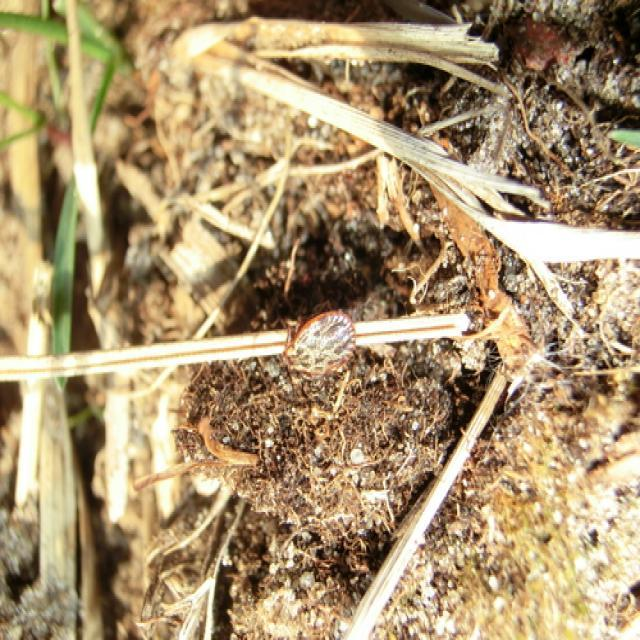Dermacentor Reticulatus-M: (282, 312, 361, 379)
